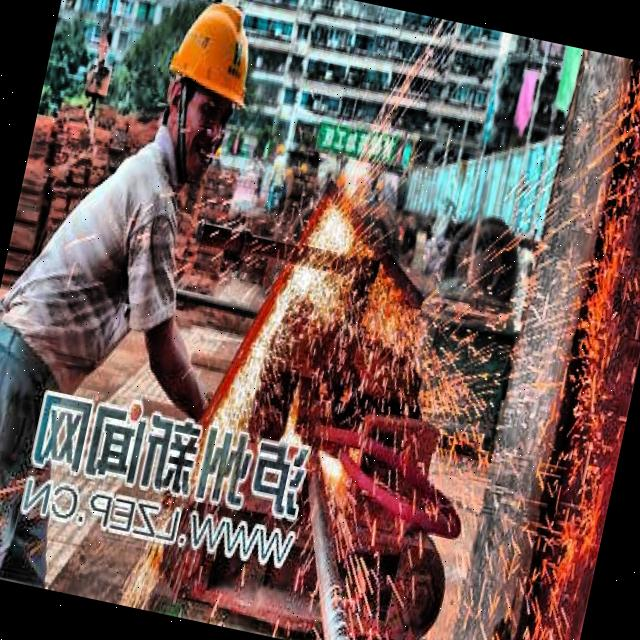helmet: (140, 0, 275, 190)
